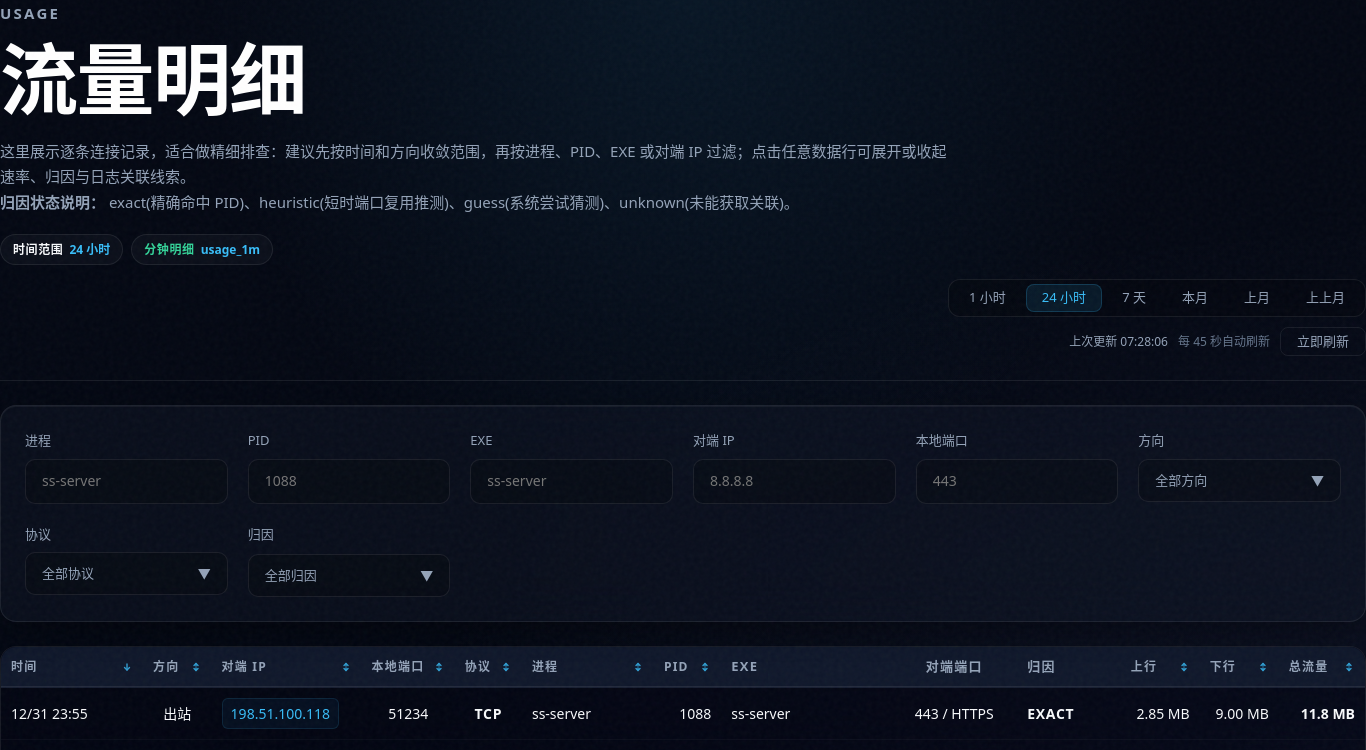
Test: traffic-go web ui › automatically retries a busy deep scan after Retry-After
Step 1. Click the row named "展开详情" → click(683, 714), box [1,688,1365,740]
(page scrolled)
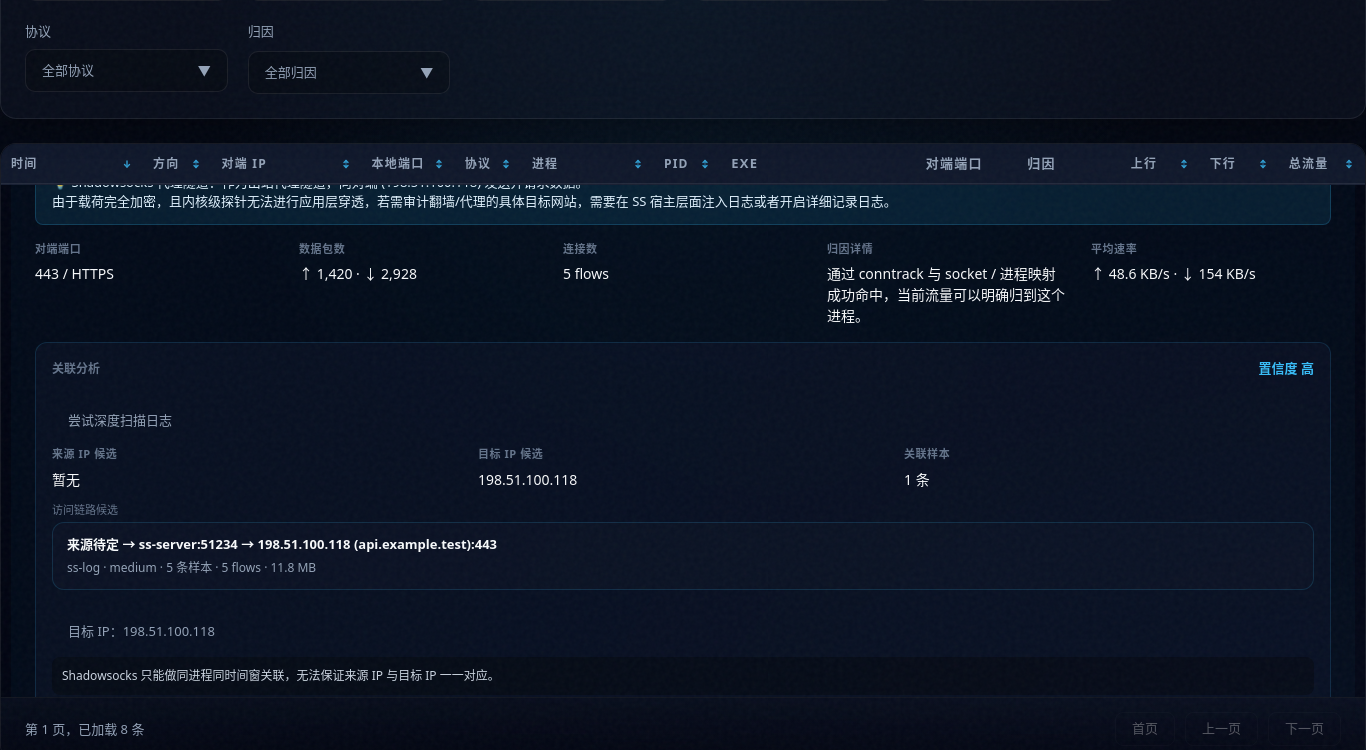
Step 2. Click the button "尝试深度扫描日志" → click(120, 420), box [52,407,188,434]
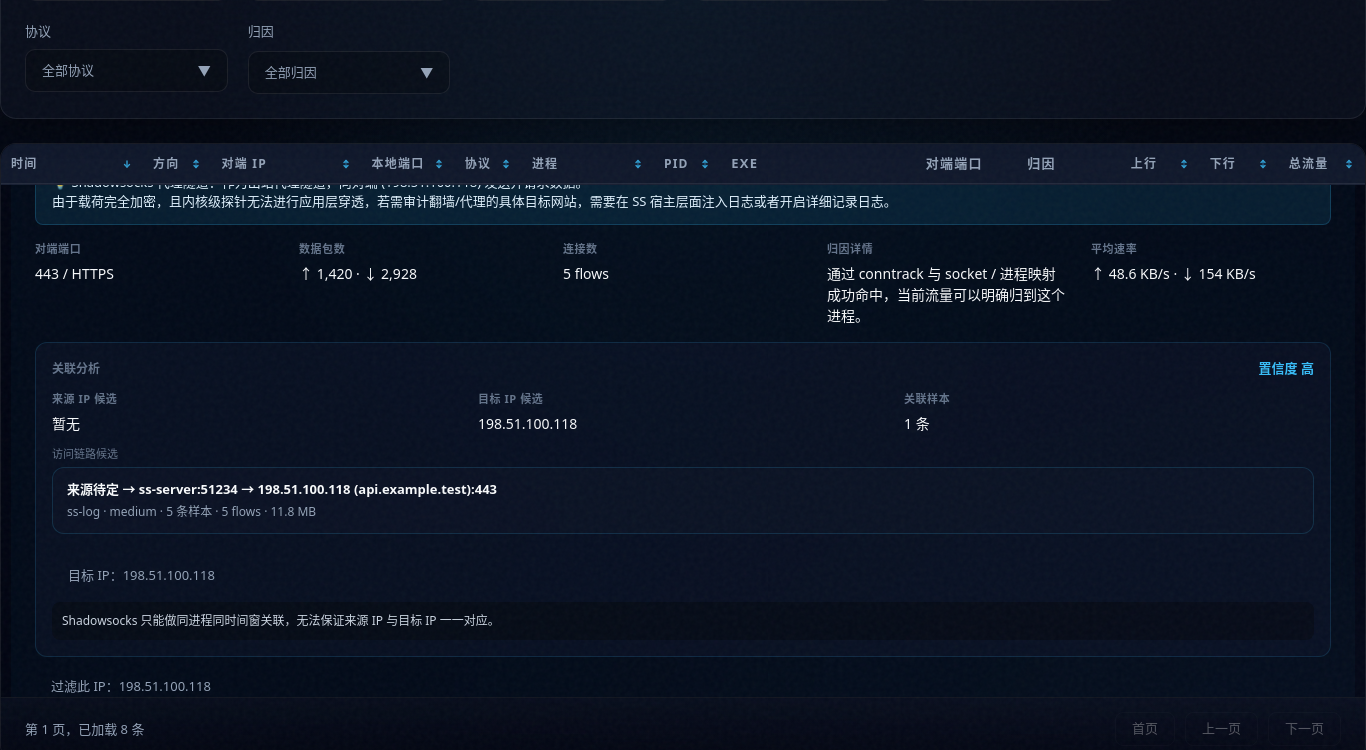
expect the button "尝试深度扫描日志" is gone: met
